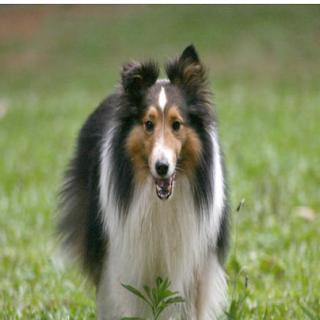dog: (114, 52, 213, 219)
nose: (154, 157, 171, 178)
